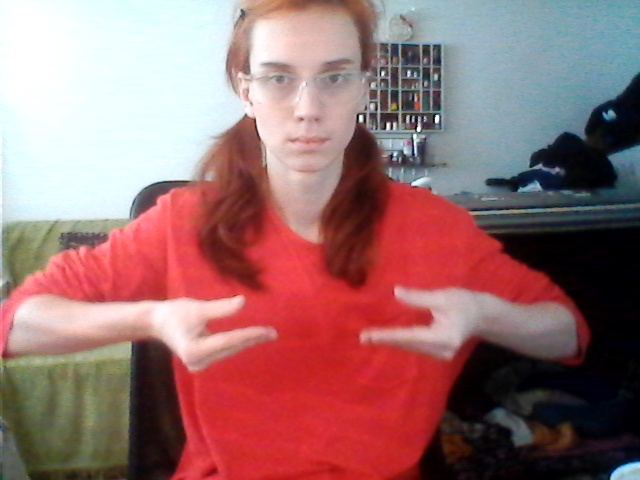drzat: (159, 277, 480, 377)
